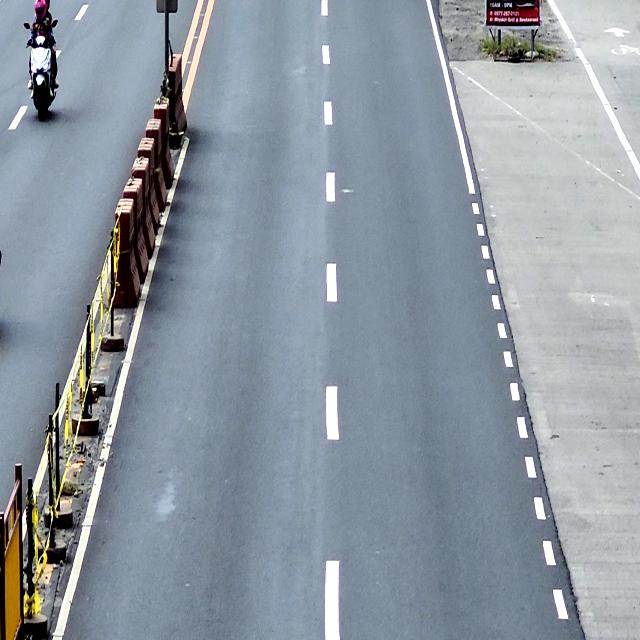Motorcycle: (23, 20, 59, 121)
